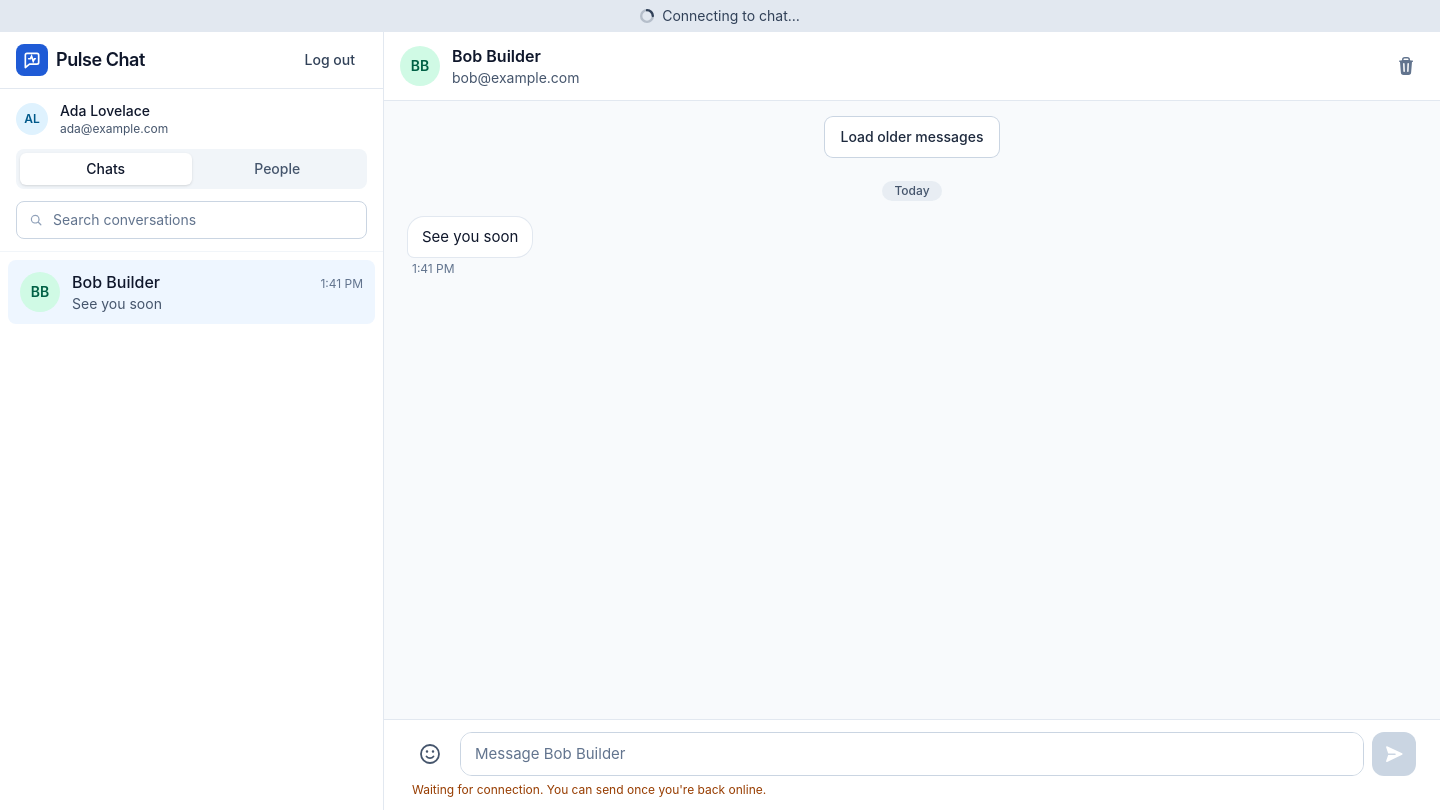
conversation view › loads older messages on request
What coordinates should you click on to do the following:
click the button "Load older messages"
I would click on:
 (912, 137)
Its box is left=824, top=117, right=1000, bottom=157.
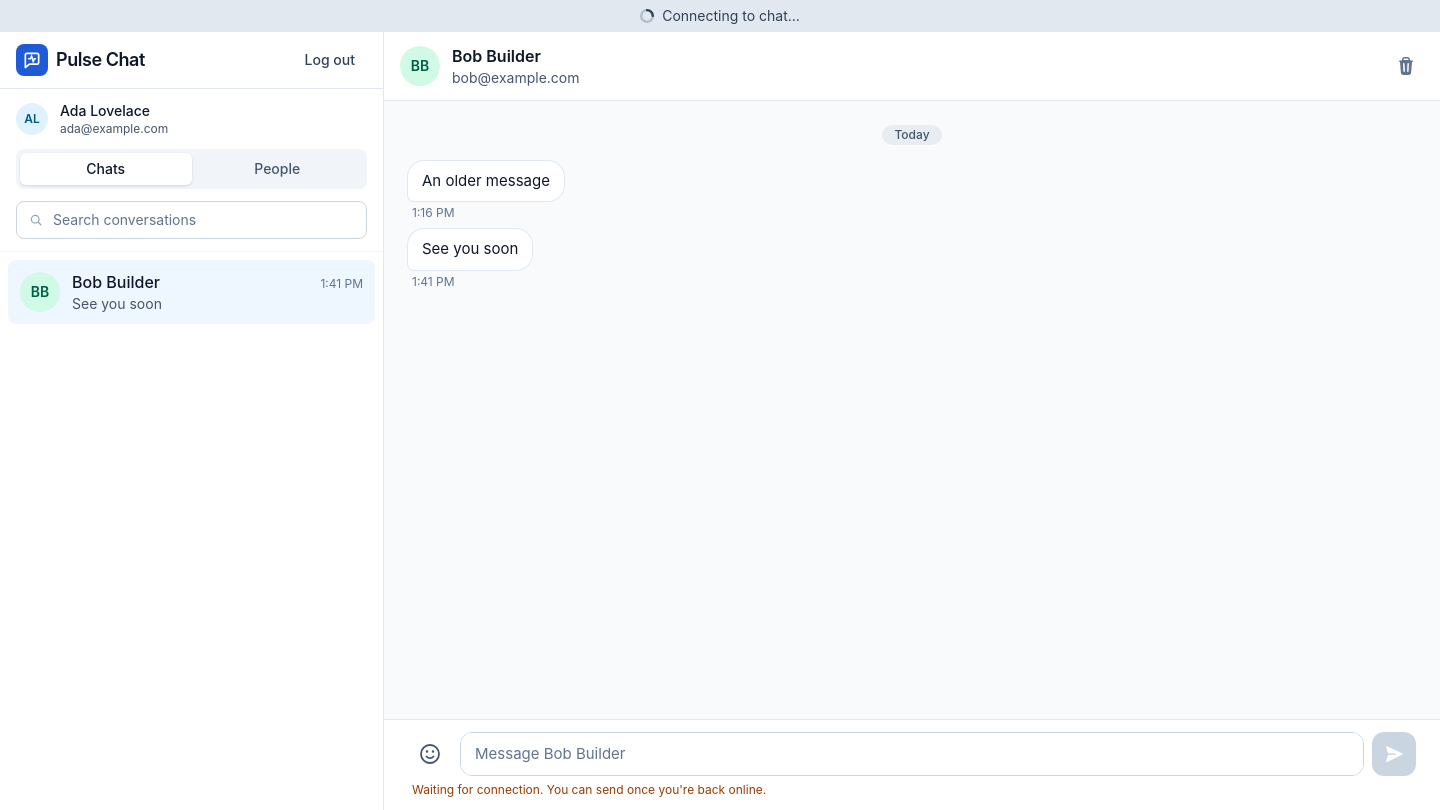
expect the text "An older message" is shown: met, box left=408, top=161, right=564, bottom=201
expect the button "Load older messages" is gone: met
